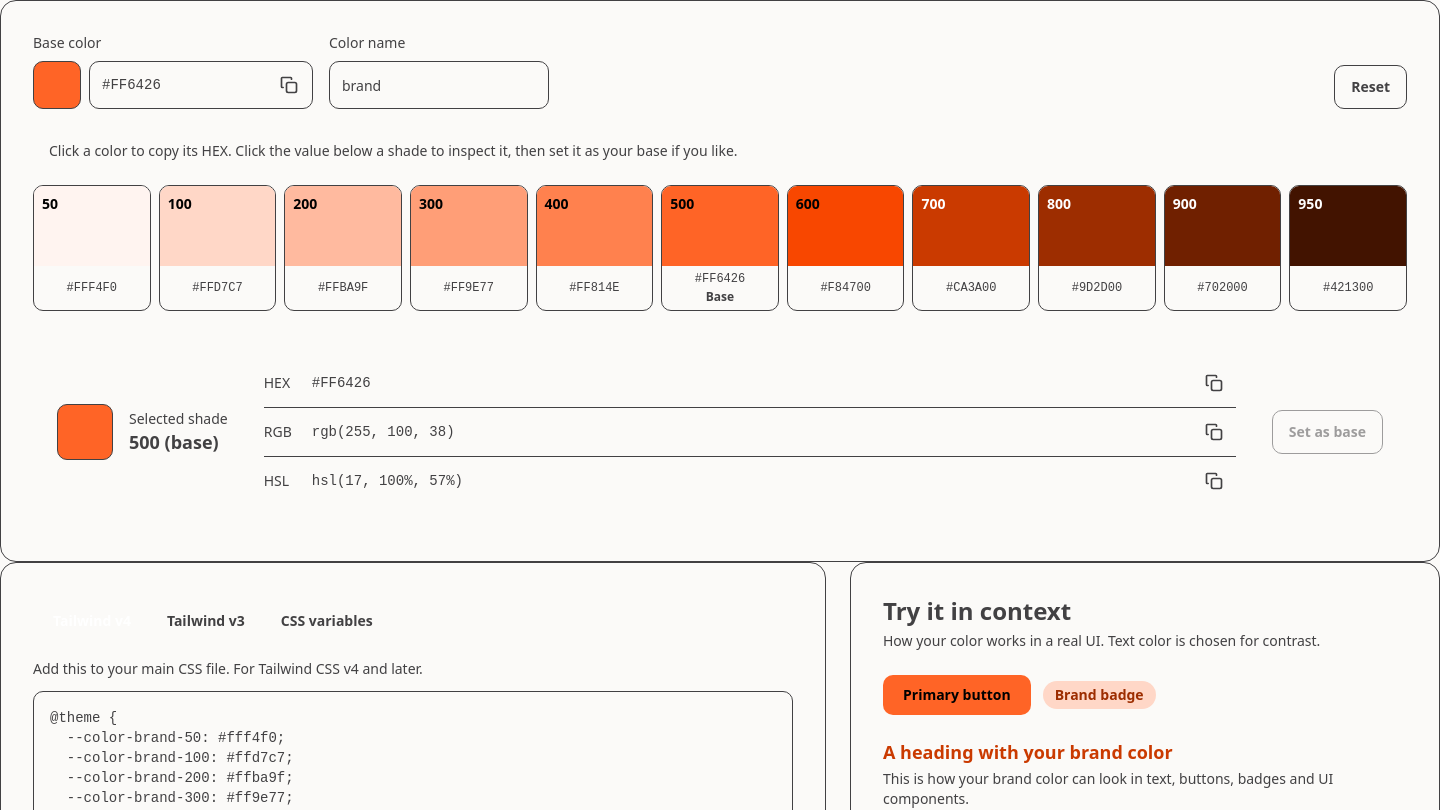
Scenario: TailwindShadesView › keeps copying, inspecting and setting the base separate
Click the button with aria-label "Inspect shade 200": (343, 288) left=285, top=266, right=401, bottom=310
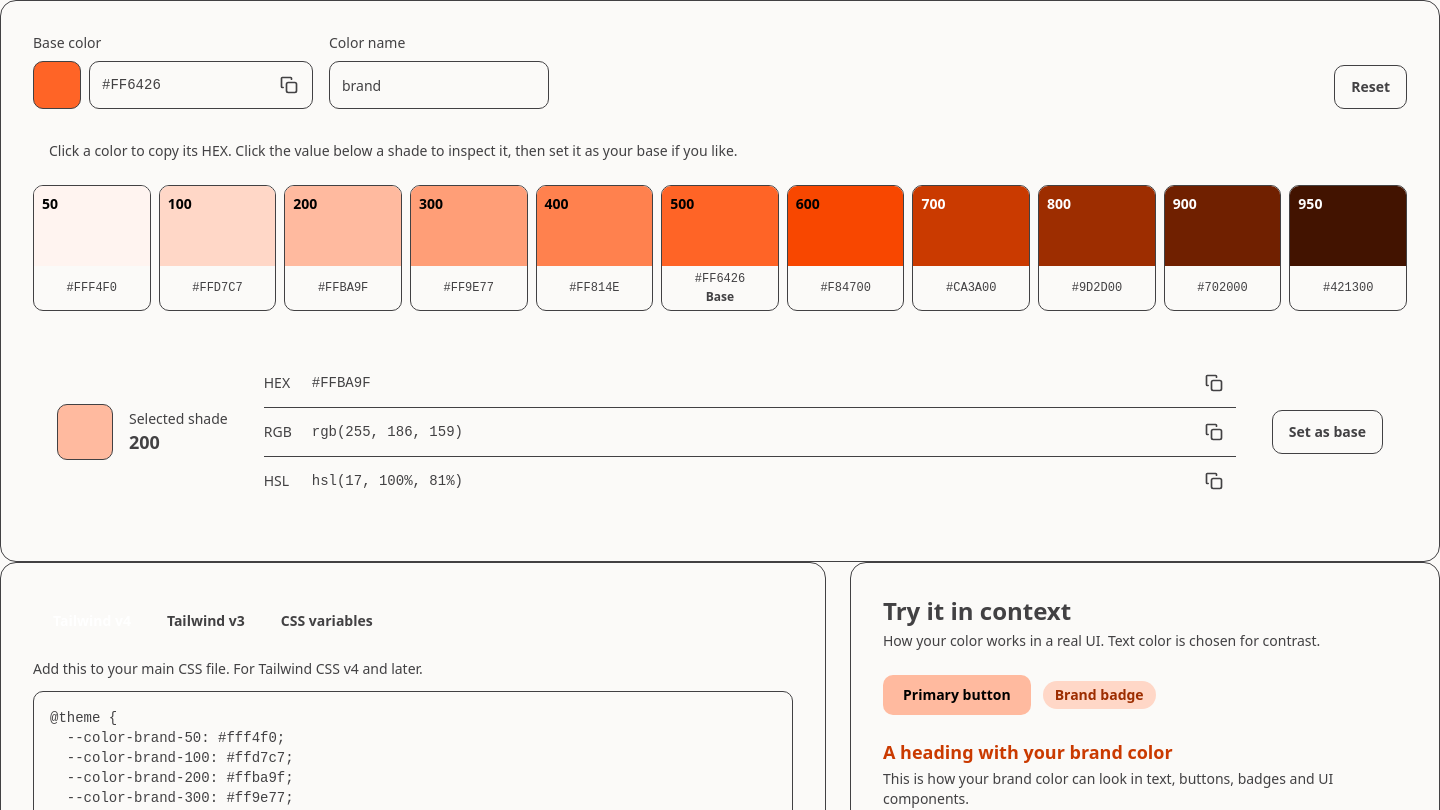
Expected: the field labelled "Base color" holds "#FF6426", left=89, top=61, right=313, bottom=109
Click the button named "Copy shade 200": (343, 226) left=285, top=186, right=401, bottom=266
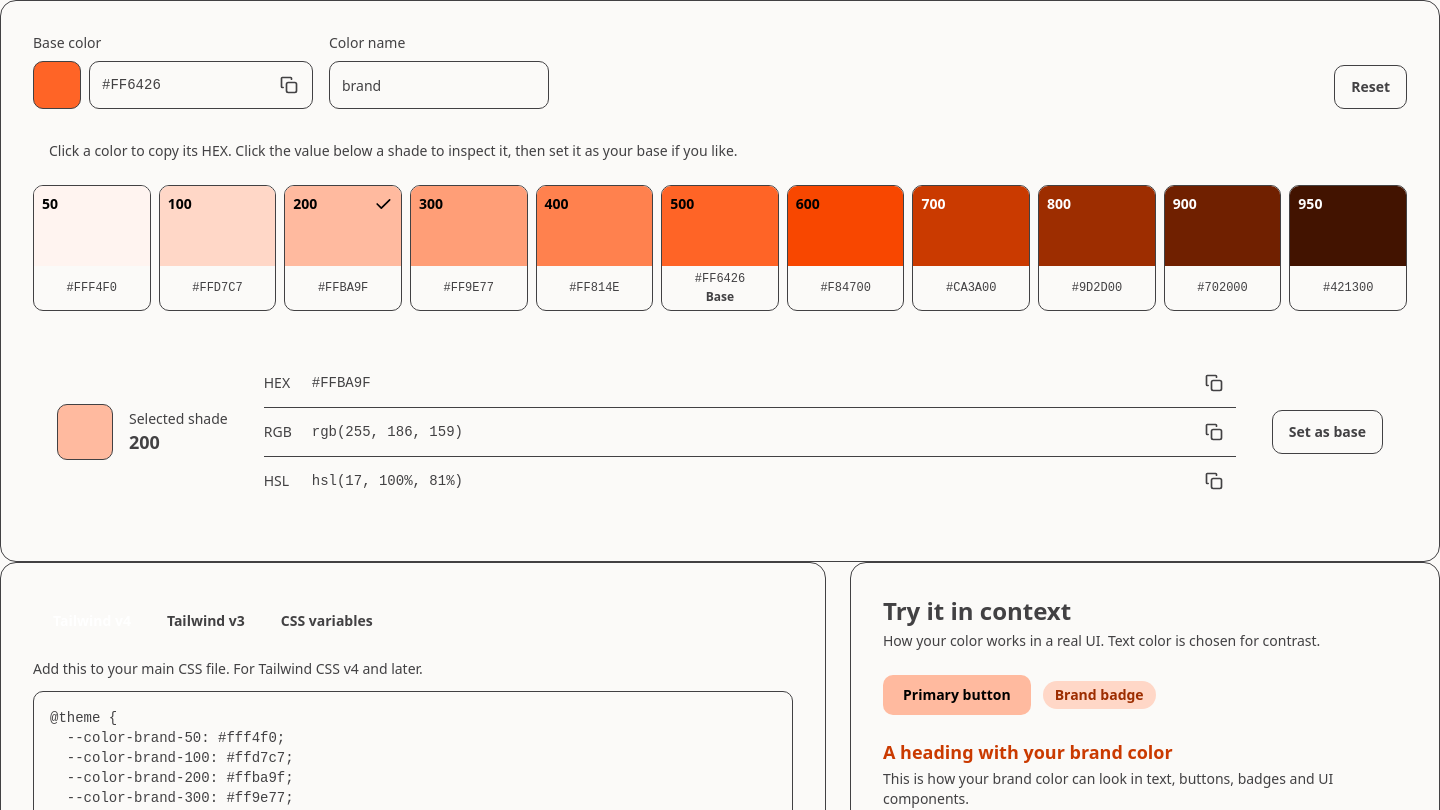
Expected: the field labelled "Base color" holds "#FF6426", left=89, top=61, right=313, bottom=109
Click the button "Set as base": (1327, 432) left=1272, top=410, right=1383, bottom=454
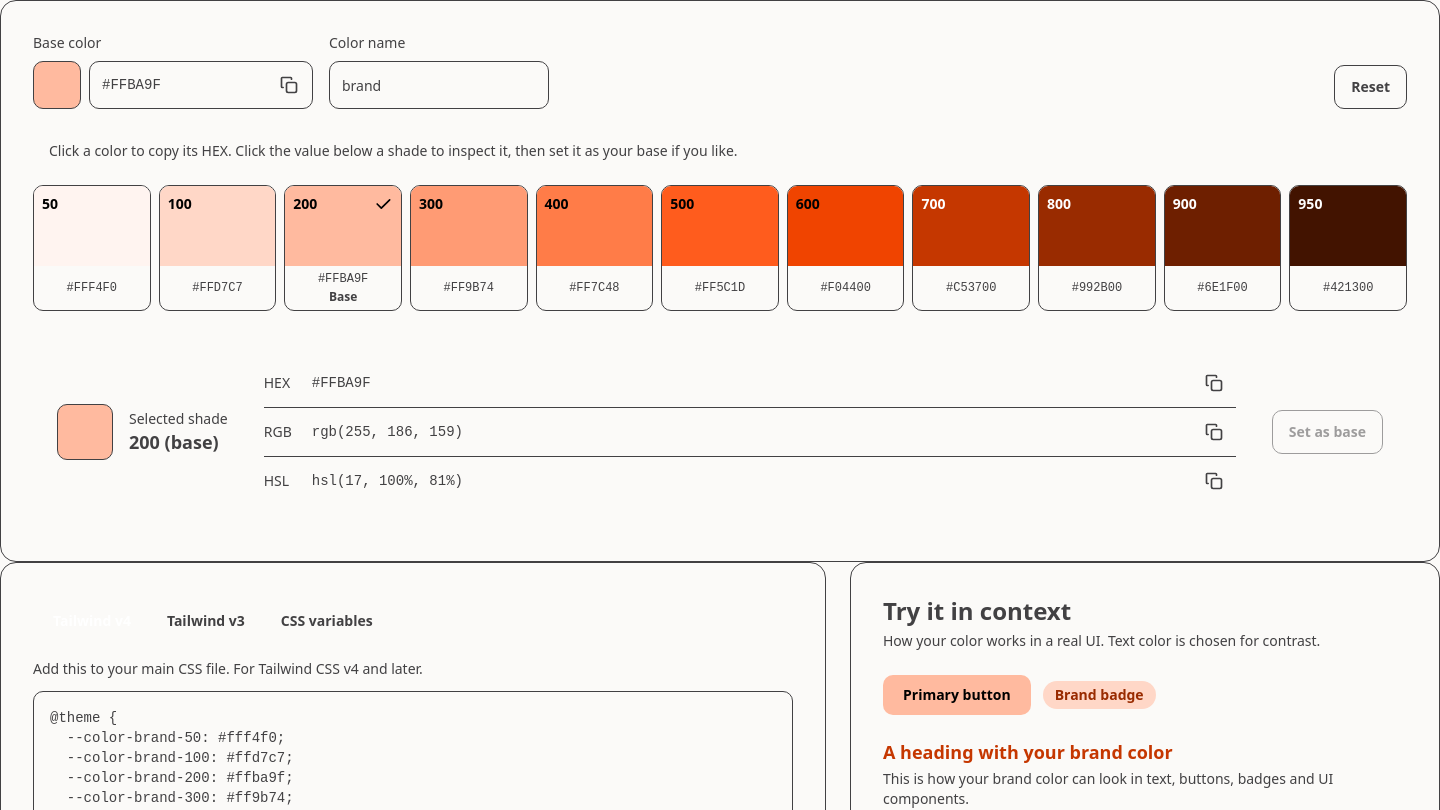
Expected: the field labelled "Base color" does not hold "#FF6426", left=89, top=61, right=313, bottom=109
